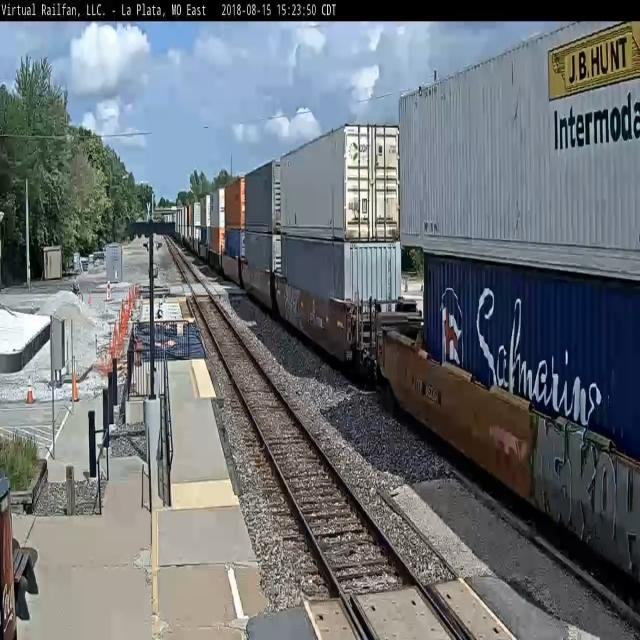container: (397, 19, 640, 291), (419, 247, 640, 464), (278, 120, 400, 247), (275, 230, 404, 308)
flatcar: (376, 316, 640, 591), (272, 264, 380, 377)
